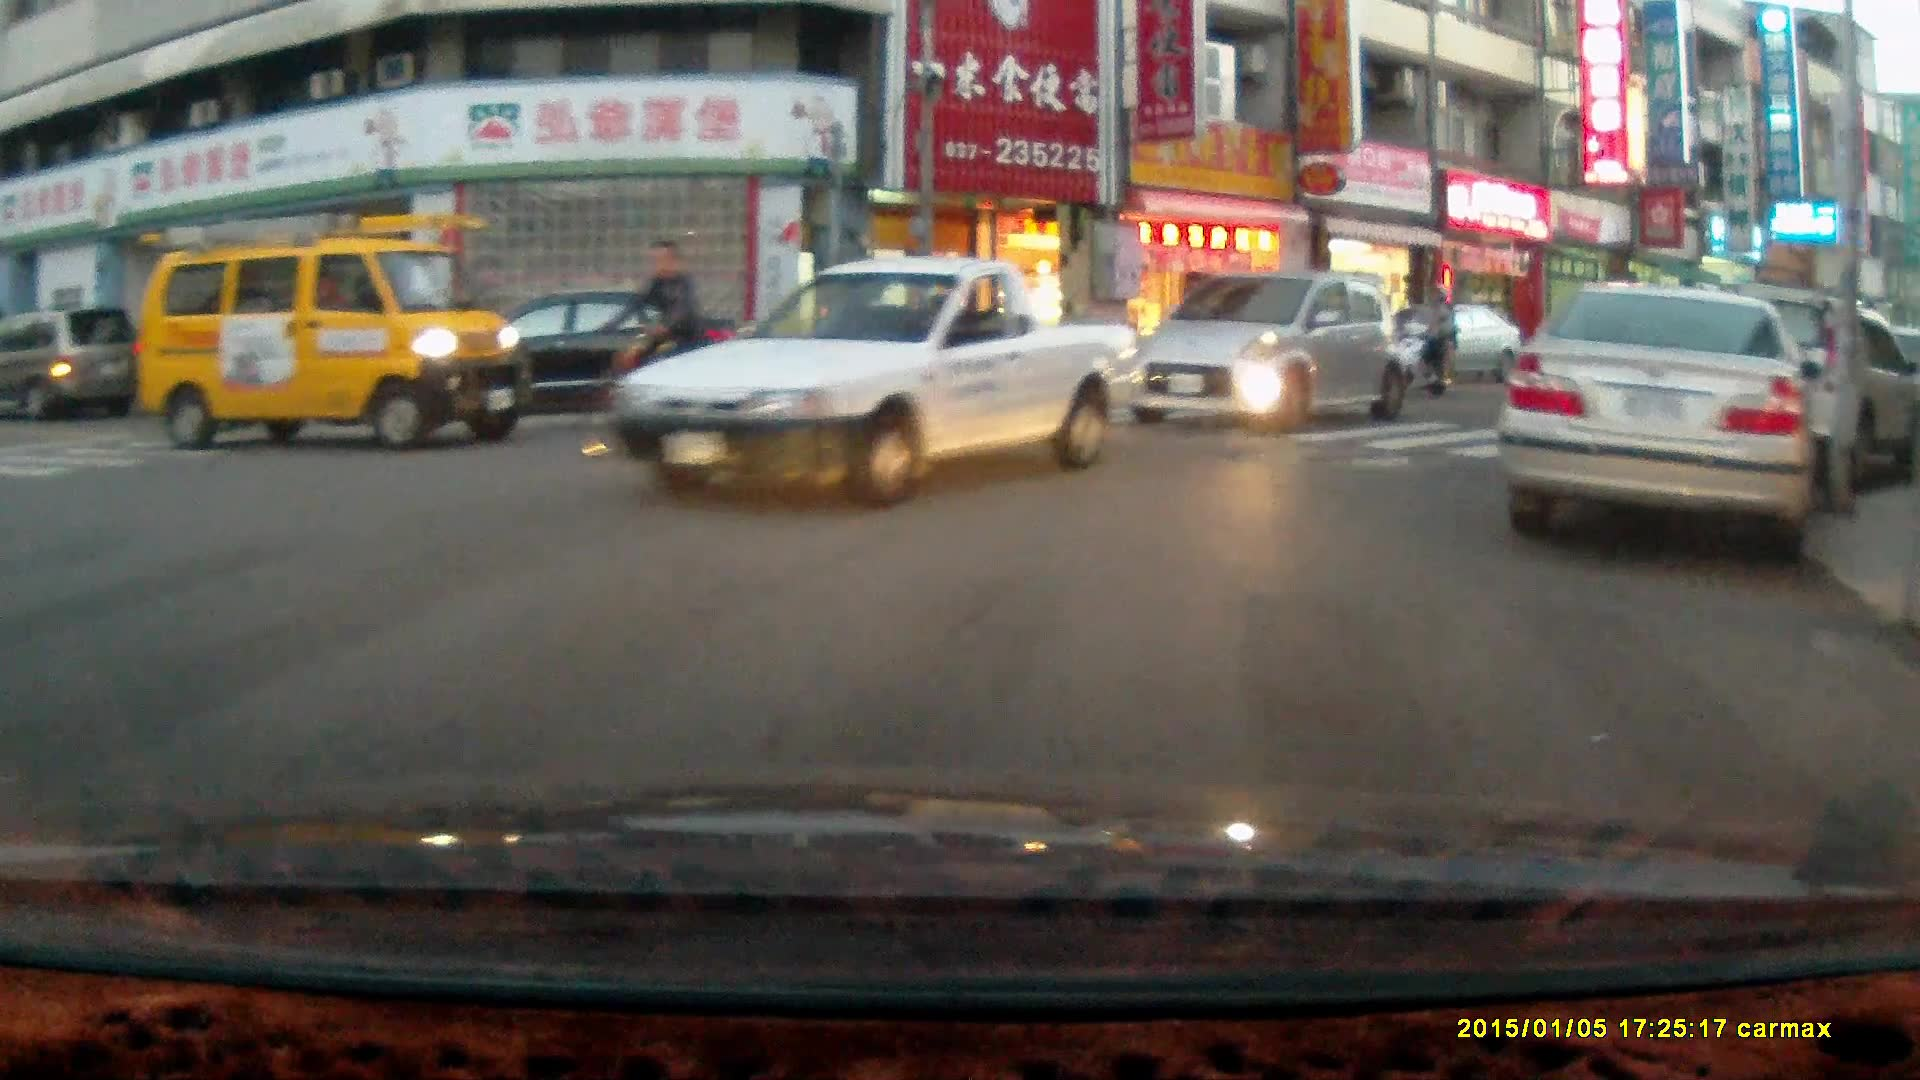rider: (570, 238, 734, 459), (1390, 277, 1458, 399)
vehicle: (612, 252, 1142, 509), (1499, 279, 1832, 574), (133, 212, 526, 455), (1648, 292, 1920, 498), (1123, 270, 1409, 433), (438, 288, 743, 415), (1, 306, 139, 422), (1396, 304, 1523, 381)
